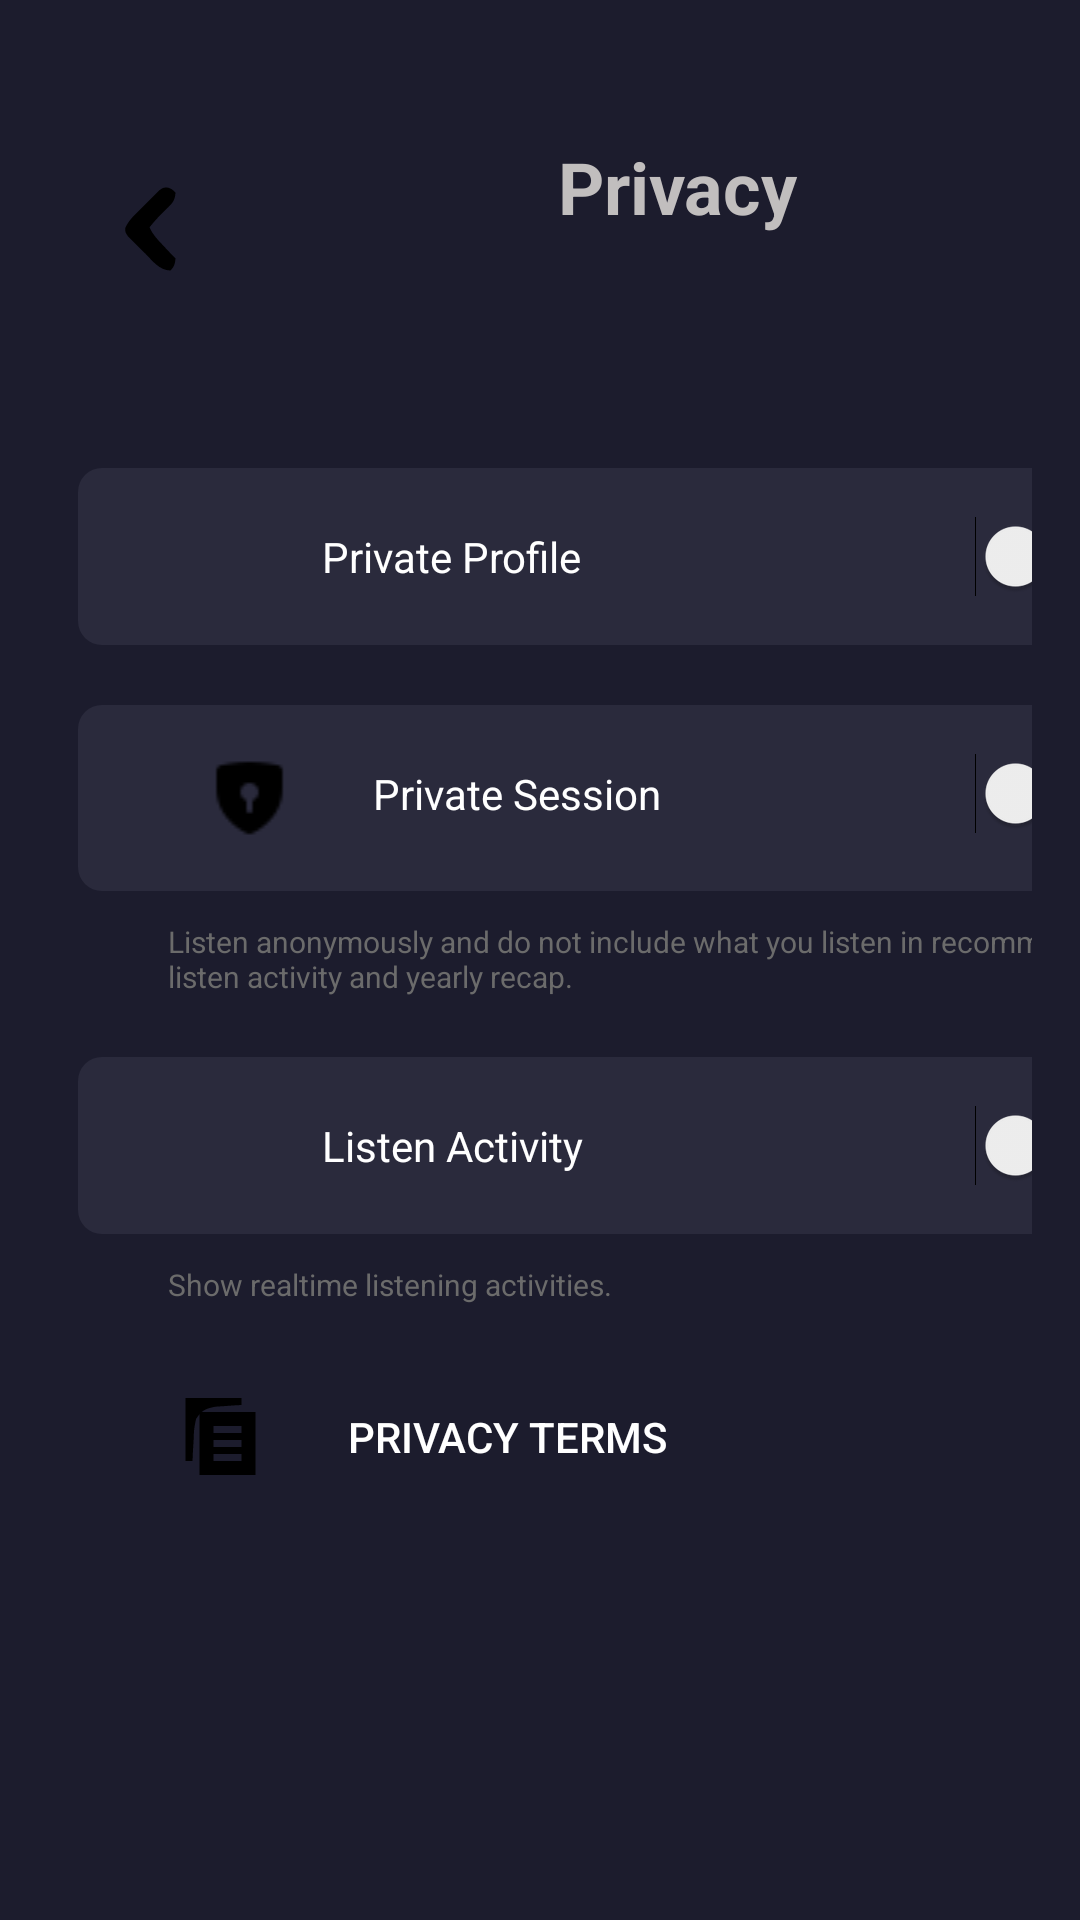

Icons on this 1080w x 1920h Android screen, each with the point to tap as [x,y]:
security: [249,798]
